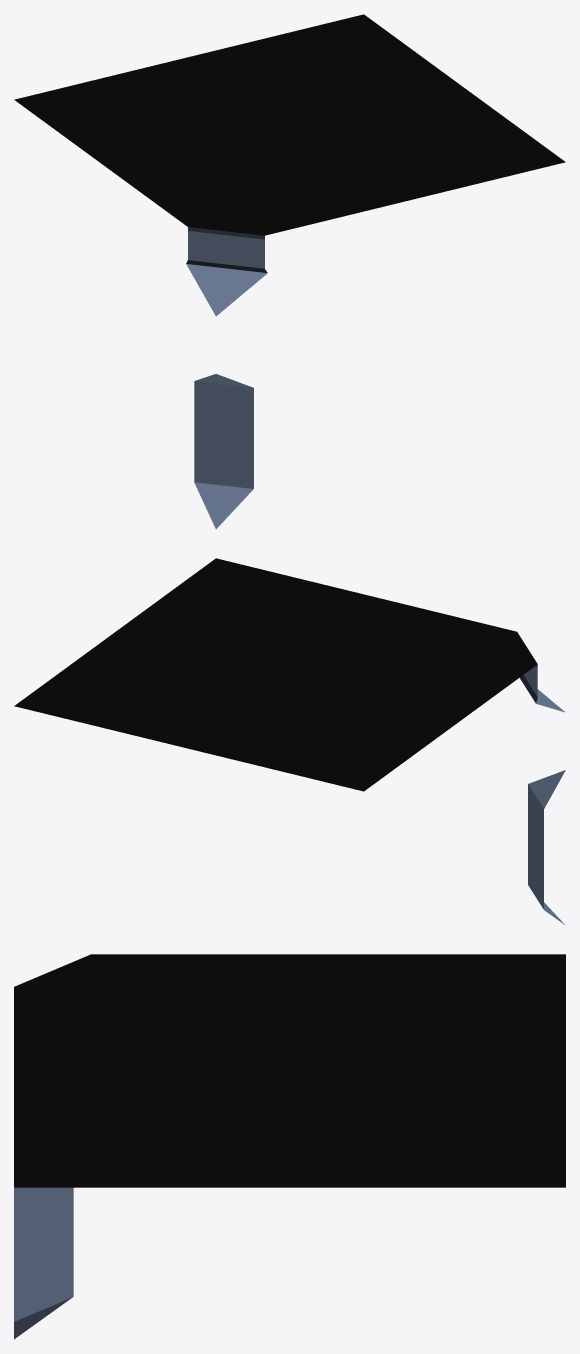
The model's file is WallAngleC.fbx.
3 renders of one model, top to bottom at view 1: azimuth 30°, elevation 25°; view 2: azimuth 150°, elevation 25°; view 3: azimuth 270°, elevation 25°, orthographic. The views are drawn at different scales.
Parts seen in each view (by area): view 1: WallAngleC; view 2: WallAngleC; view 3: WallAngleC.
Boxes of the visible parts, x1,y1,x2,y2 form: WallAngleC: (14, 14, 565, 529); WallAngleC: (14, 558, 565, 924); WallAngleC: (14, 954, 565, 1339).
Bounding box in the file's own units: 400 × 308 × 400.
